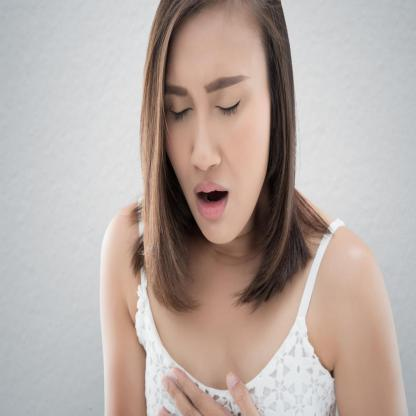pain: (155, 64, 255, 134)
